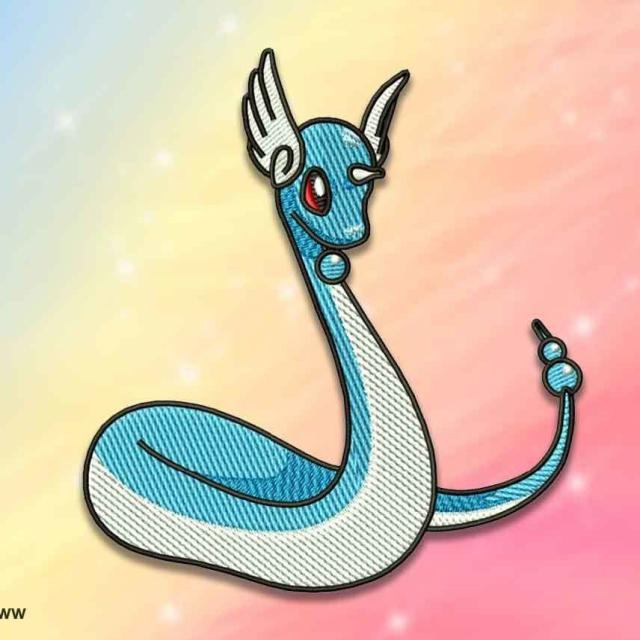Dragonair: (72, 54, 436, 590)
